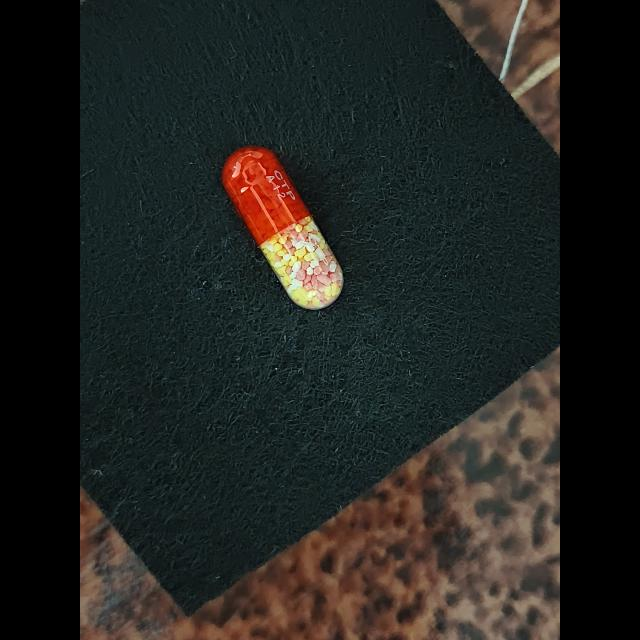Intact Capsule: (222, 146, 344, 310)
